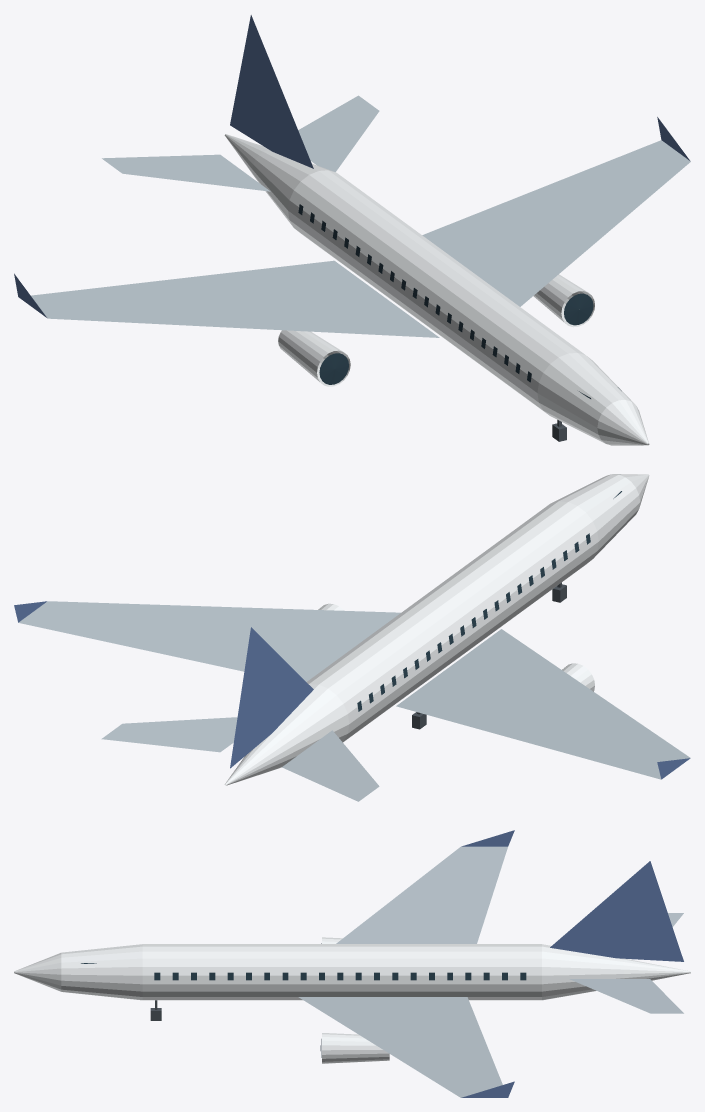
Rendered from b777-BAW.gltf.
3 renders of one model, top to bottom at view 1: azimuth 30°, elevation 25°; view 2: azimuth 150°, elevation 25°; view 3: azimuth 270°, elevation 25°, orthographic. The views are drawn at different scales.
Visible parts, largest first — view 1: object 1; view 2: object 1; view 3: object 1.
Part boxes in pixels (x1=…): object 1: x1=14, y1=15, x2=690, y2=445; object 1: x1=14, y1=474, x2=690, y2=801; object 1: x1=14, y1=830, x2=690, y2=1097.
Bounding box in the file's own units: 65 × 19.16 × 74.
